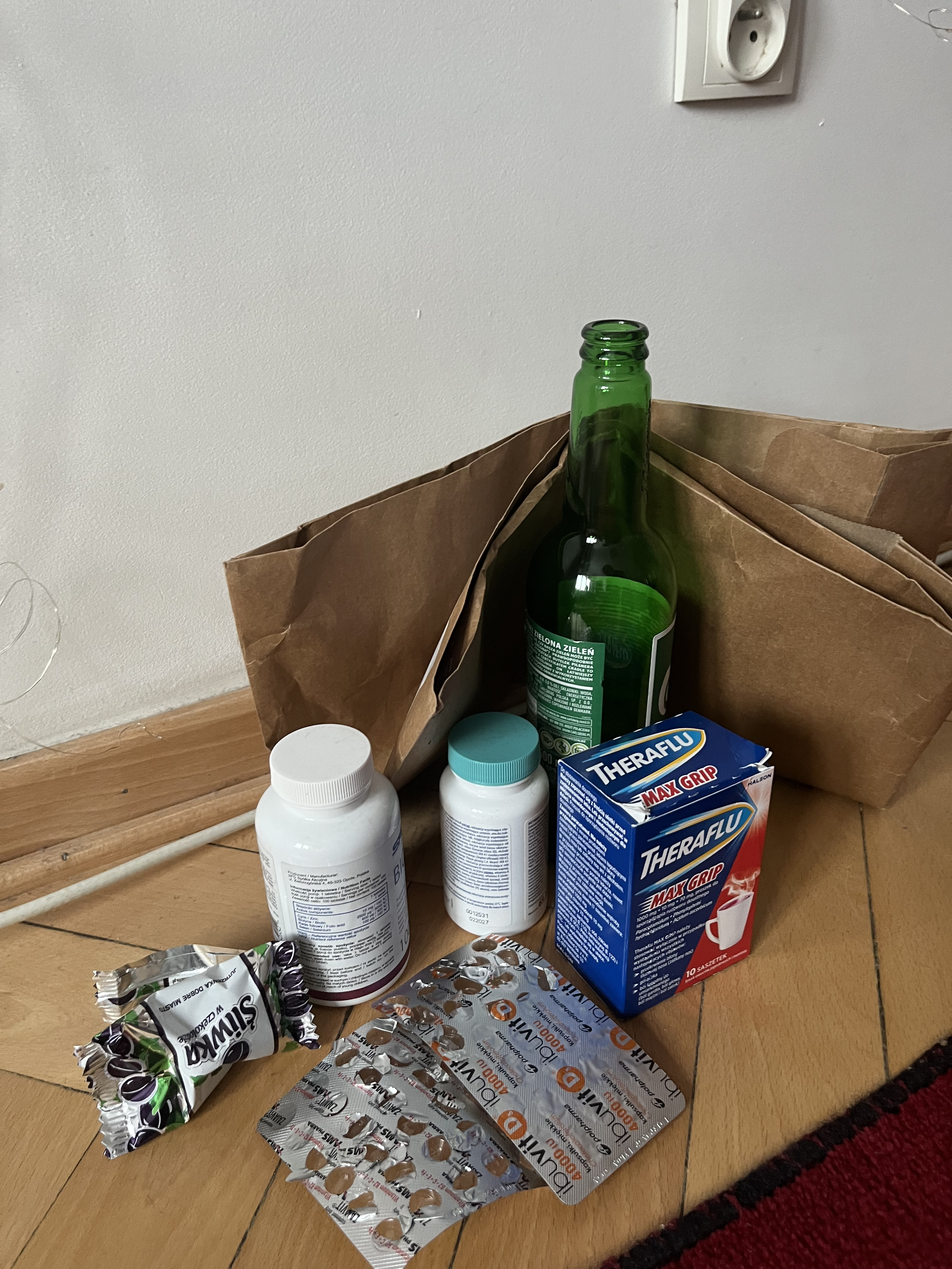CARDBOARD: (183, 380, 952, 800)
GLASS: (512, 315, 686, 749)
PAPER: (547, 732, 770, 989)
PLASTIC: (283, 997, 522, 1259), (404, 941, 689, 1153), (62, 954, 332, 1134), (234, 719, 410, 992), (434, 716, 552, 951)
